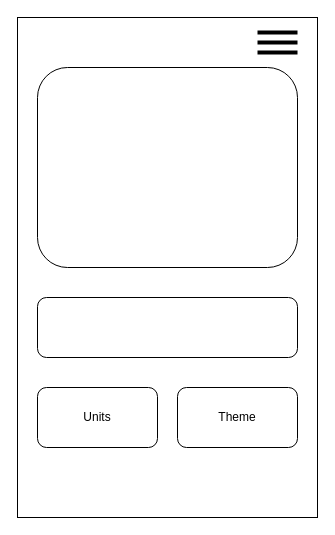
Some shapes in this 335 by 535 pixel diagram are drawn without their labels. Each missing label, with the box of its shape:
Add/Remove Location: (36, 296, 298, 358)
Locations: (36, 66, 298, 268)
